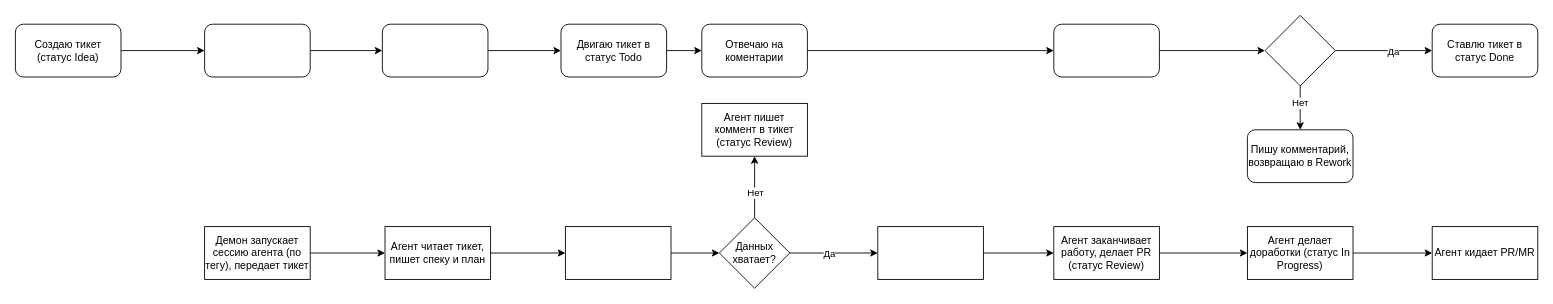
The diagram is 1553 pixels wide and 304 high, and some of its shapes have lost their labels. The shapes that lost their labels are listed below. From the top down, each one's centre as x and y in pixels, then its label:
(x=257, y=50): Беру тикет в работу (статус Backlog)
(x=434, y=50): Проверяю спеку и план, редактирую
(x=1106, y=50): Проверяю результат работы
(x=1299, y=50): Результат устраивает?
(x=618, y=252): Агент читает тикет
(x=930, y=252): Агент берет тикет в работу (статус In Progress)
